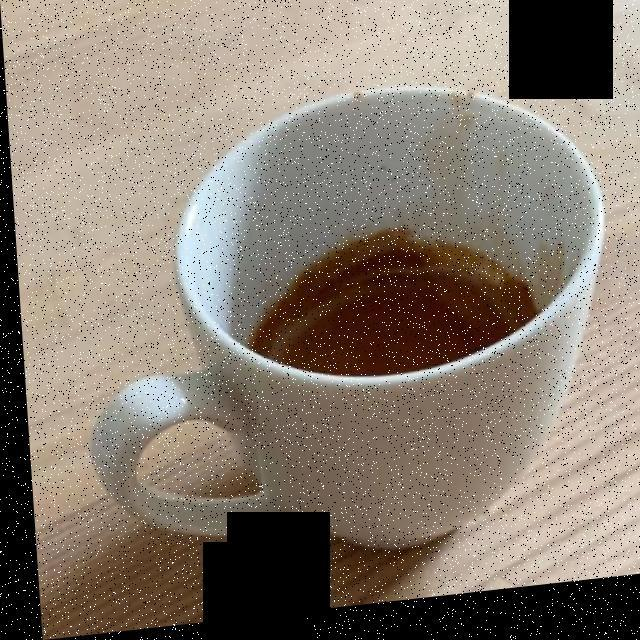coffee: (245, 241, 531, 382)
